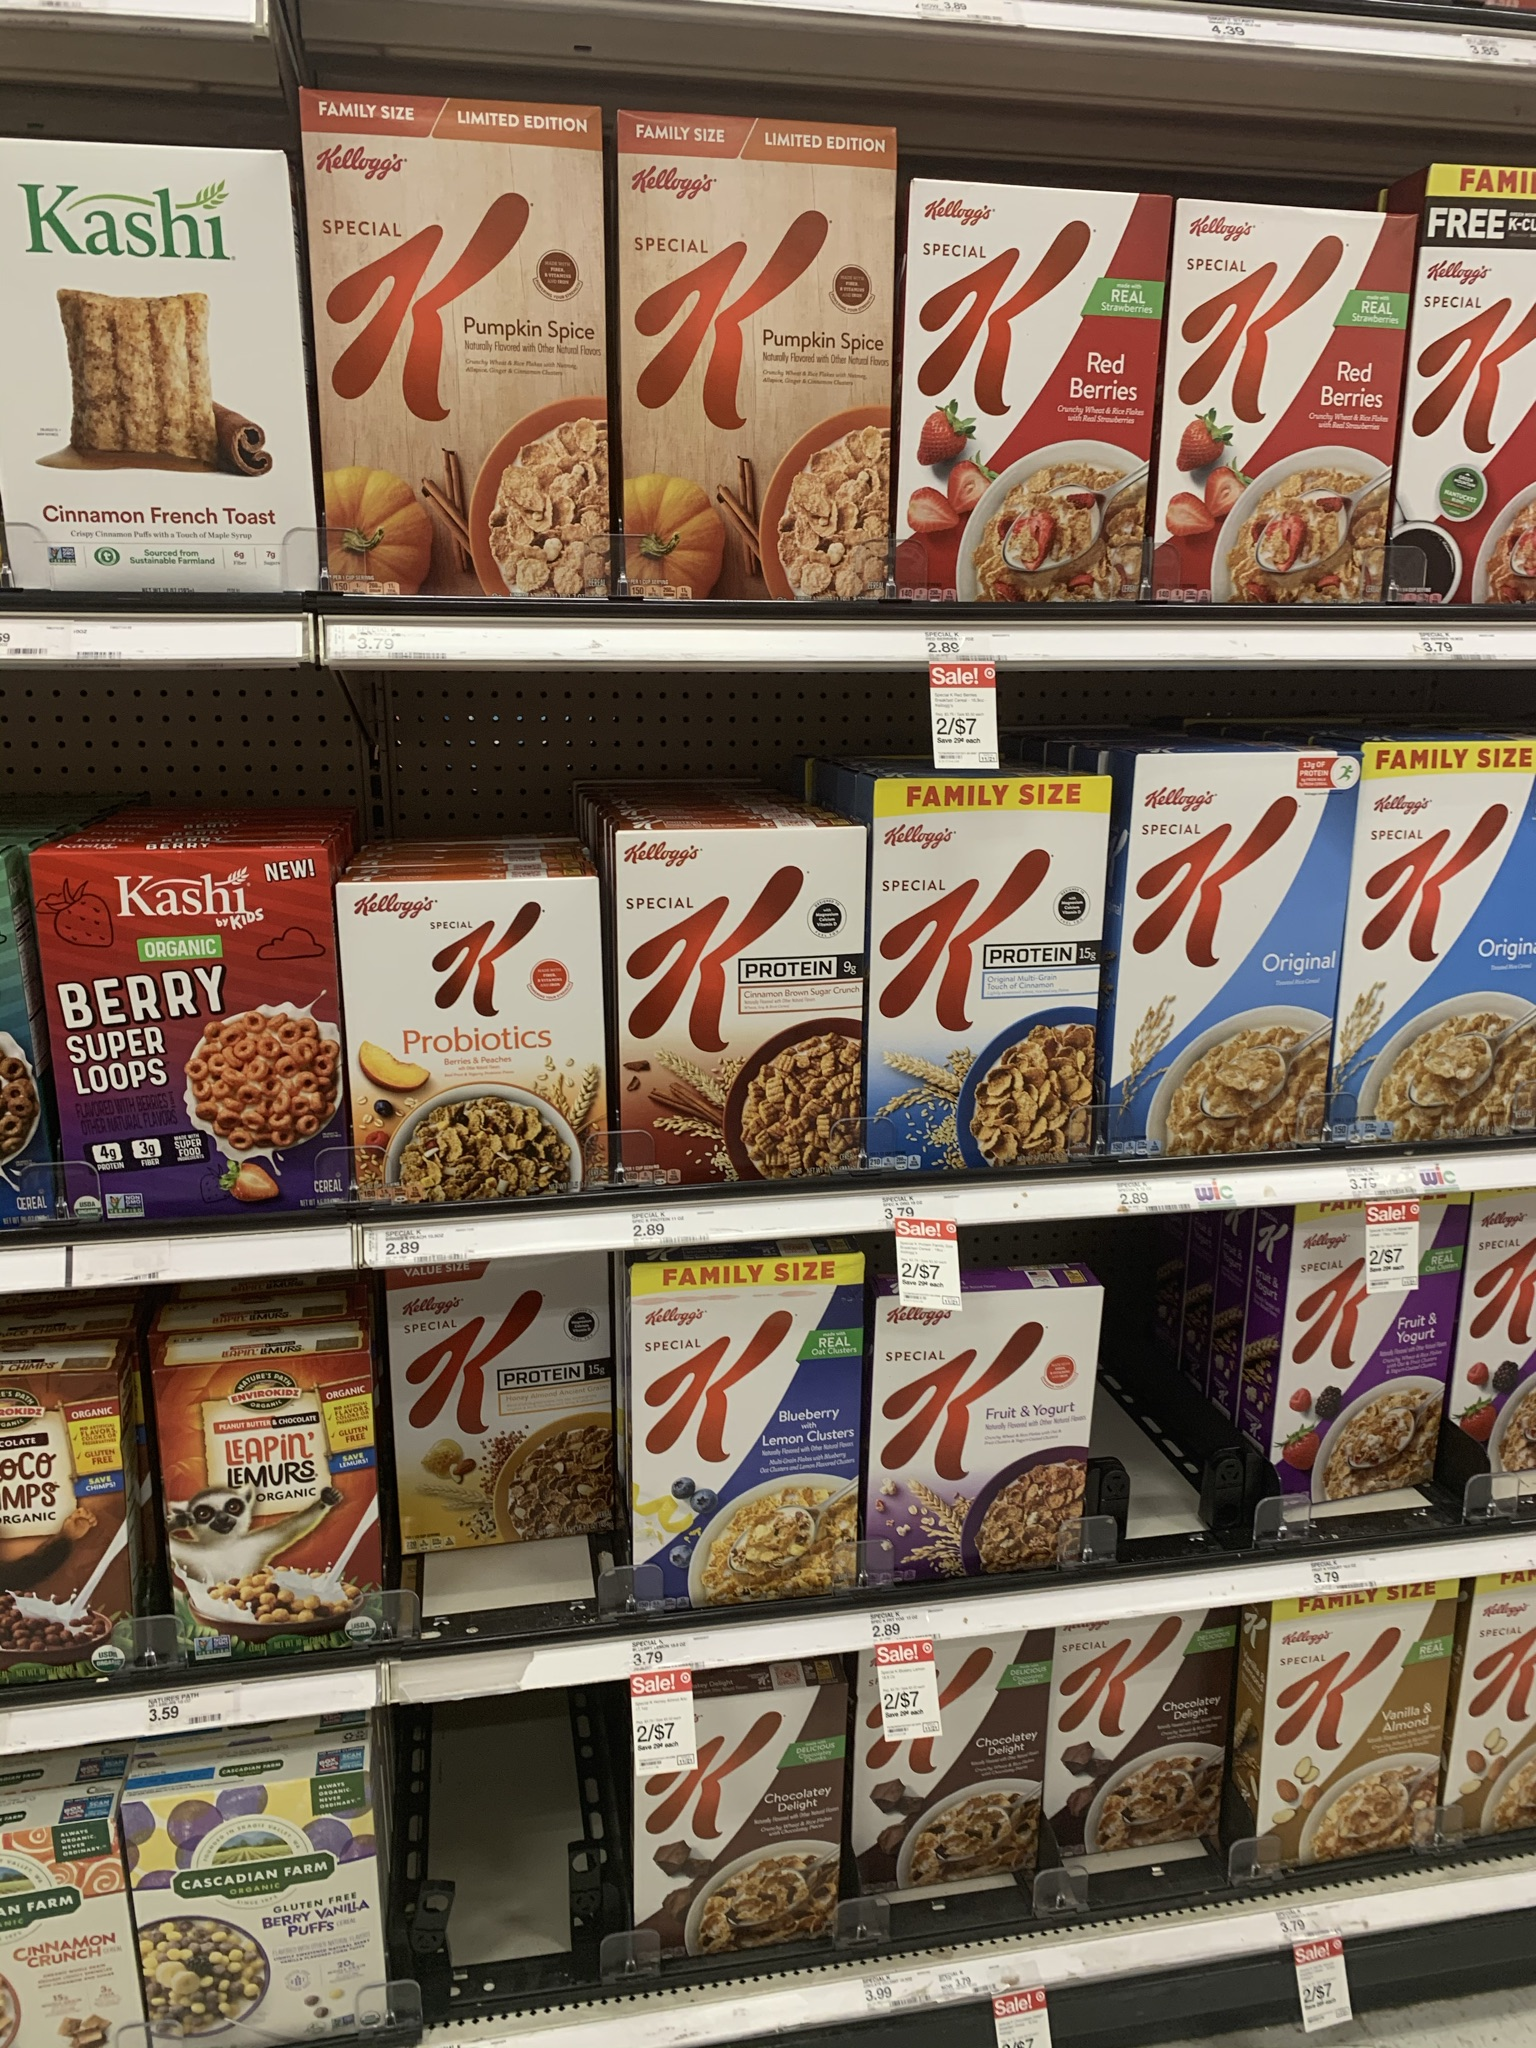cereal: (295, 94, 610, 605), (615, 113, 886, 605), (31, 856, 344, 1214), (905, 187, 1144, 605), (863, 774, 1105, 1180), (1175, 200, 1391, 619), (336, 892, 616, 1206), (623, 832, 863, 1176), (1128, 755, 1329, 1161), (632, 1272, 863, 1605), (1357, 743, 1536, 1143), (381, 1271, 616, 1550), (152, 1372, 395, 1642), (878, 1309, 1078, 1592), (632, 1706, 842, 1966), (1291, 1213, 1452, 1540), (857, 1651, 1050, 1888), (1270, 1608, 1447, 1866), (1049, 1627, 1233, 1871)
